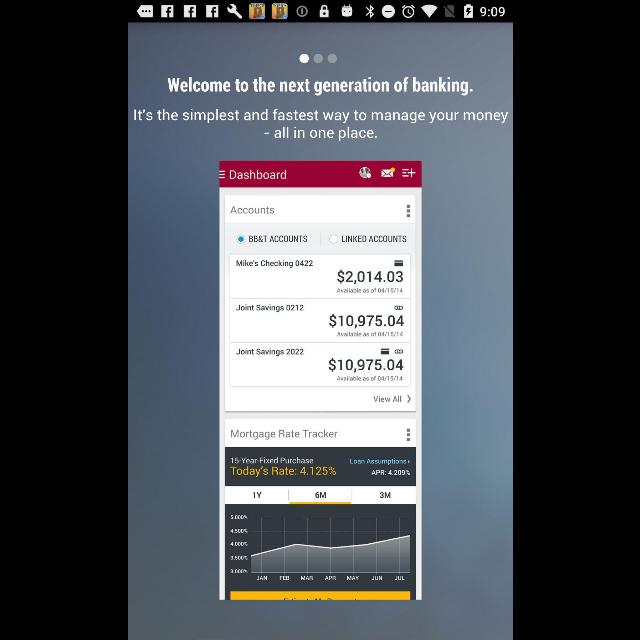image: (219, 160, 421, 600)
pageindicator: (299, 54, 337, 64)
text: (133, 109, 507, 141), (168, 77, 472, 96)
uppertaskbar: (128, 1, 512, 23)
